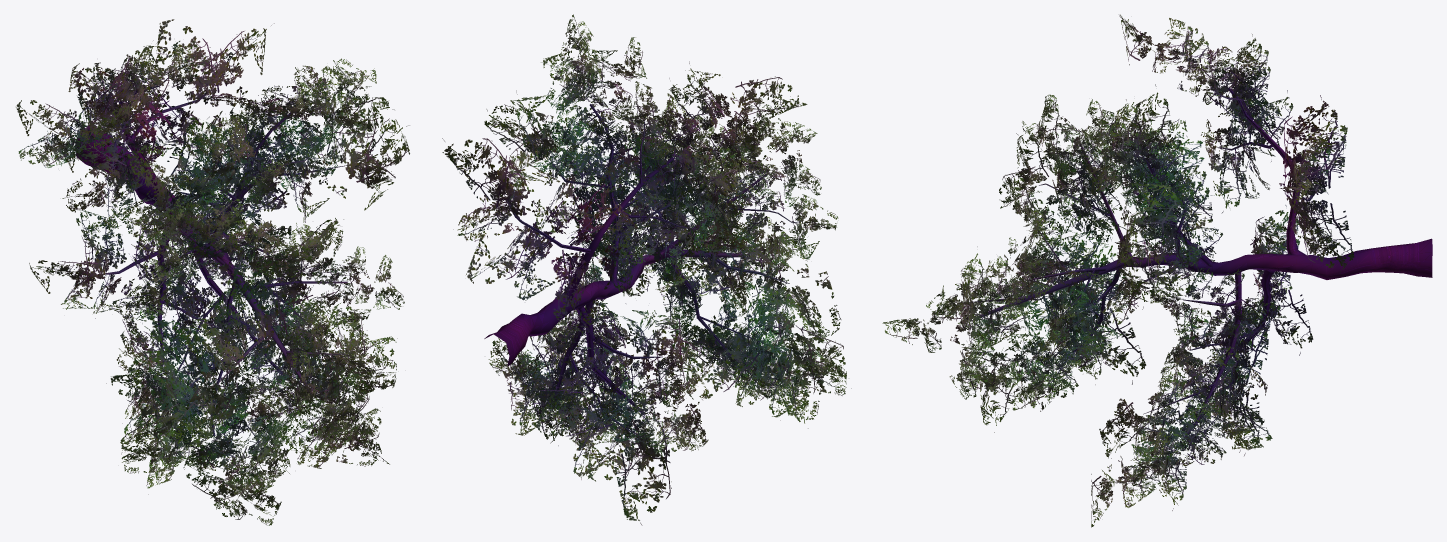
The model's file is oak_big_oak_tree_002_lod1.glb.
3 views of the same model, side by side, from view 1: azimuth 30°, elevation 25°; view 2: azimuth 150°, elevation 25°; view 3: azimuth 270°, elevation 25° (orthographic). The views are drawn at different scales.
Visible parts, largest first — view 1: Big_oak_tree__002_LOD1; view 2: Big_oak_tree__002_LOD1; view 3: Big_oak_tree__002_LOD1.
Boxes of the visible parts, x1=… form: Big_oak_tree__002_LOD1: x1=16, y1=19, x2=409, y2=525; Big_oak_tree__002_LOD1: x1=442, y1=14, x2=851, y2=525; Big_oak_tree__002_LOD1: x1=882, y1=14, x2=1432, y2=527.
Size of the model in its own units: 13.68 by 17.39 by 20.28.
Materials: 2 (2 with a texture image).
